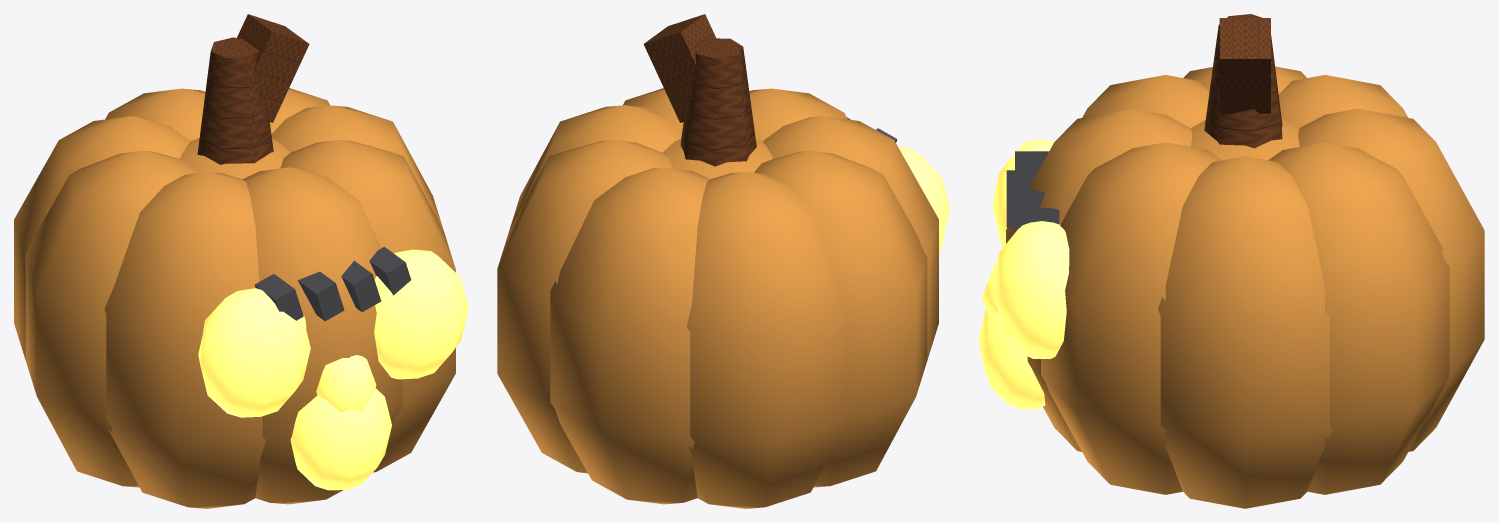
The model's file is halloween-slasher-street-jack-o-lantern-hollow-eyes-5bc5cf27__27302.glb.
3 views of the same model, side by side, from view 1: azimuth 30°, elevation 25°; view 2: azimuth 150°, elevation 25°; view 3: azimuth 270°, elevation 25° (orthographic). The views are drawn at different scales.
Visible parts, largest first — view 1: jack-o-lantern-hollow-eyes; view 2: jack-o-lantern-hollow-eyes; view 3: jack-o-lantern-hollow-eyes.
Boxes of the visible parts, box(x1,y1,x2,y2) form: jack-o-lantern-hollow-eyes: box(14, 14, 468, 508); jack-o-lantern-hollow-eyes: box(497, 14, 949, 508); jack-o-lantern-hollow-eyes: box(978, 14, 1484, 508).
Bounding box in the file's own units: 0.4299 × 0.4522 × 0.4547.
Materials: 4 (1 with a texture image).
